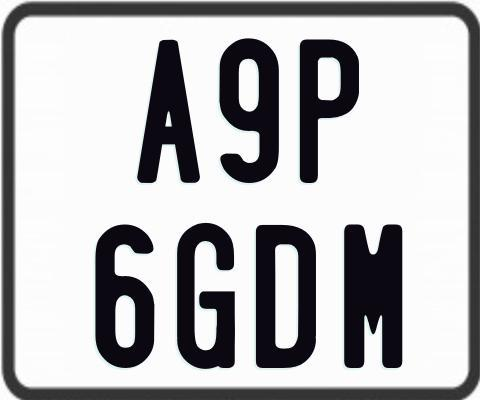6: (95, 225, 160, 373)
9: (219, 36, 285, 185)
A: (136, 38, 205, 181)
D: (255, 223, 315, 367)
G: (175, 220, 233, 368)
M: (342, 221, 400, 367)
P: (298, 39, 359, 184)
